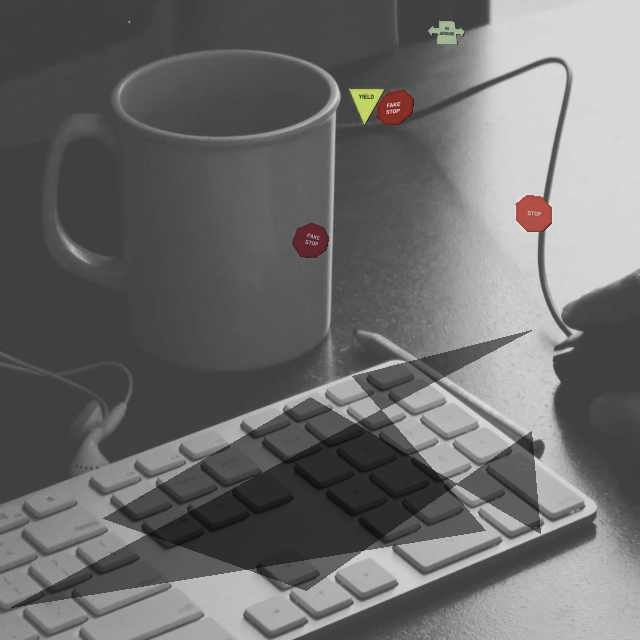FAKE_STOP: (291, 222, 329, 258), (376, 89, 414, 125)
GO_AROUND: (427, 20, 465, 45)
STOP: (515, 194, 552, 232)
YIELD: (348, 88, 385, 126)
